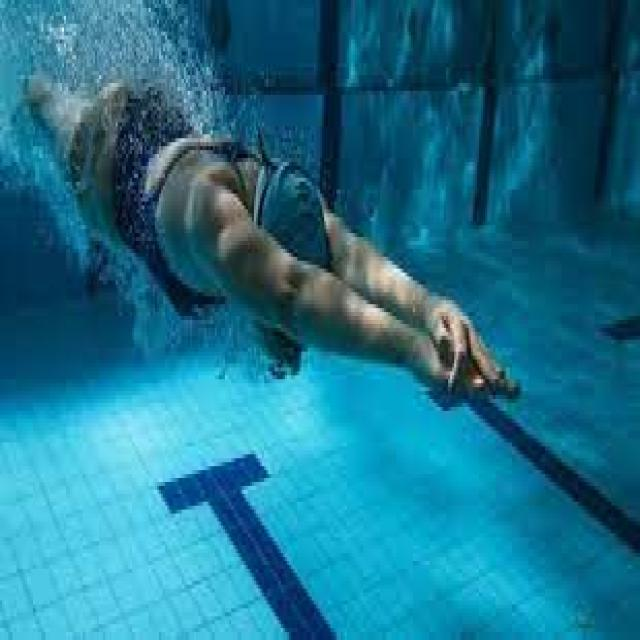Swimming: (22, 65, 520, 408)
